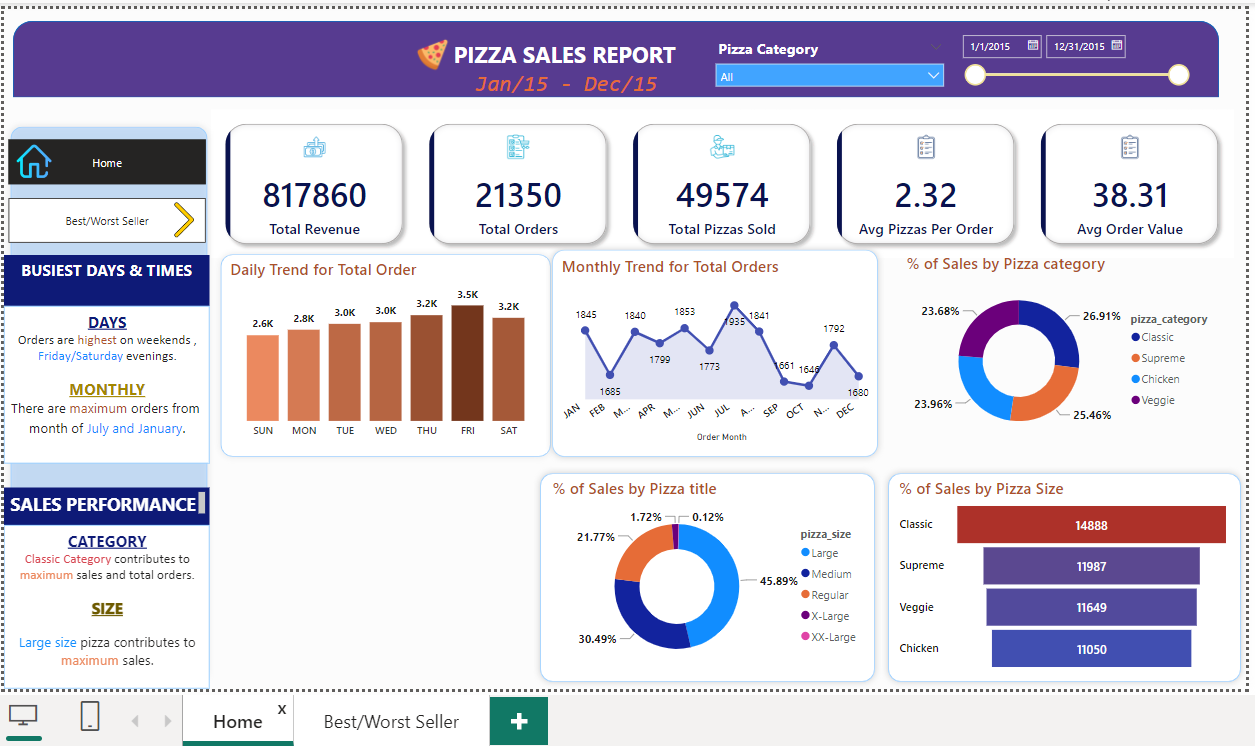

This screenshot's page, from the dashboard's own definition file:
{"tool":"powerbi","page":{"name":"Home","canvas":[1500,820],"ordinal":0},"visuals":[{"type":"cardVisual","fields":{"Data":["public pizzasale.Total Revenue","public pizzasale.Total Orders","public pizzasale.Total Pizzas Sold","public pizzasale.Avg Pizzas Per Order","public pizzasale.Avg Order Value"]},"box":[249.8,121.3,1234.5,179.2],"z":0},{"type":"shape","box":[10.9,14.5,1455.4,92.3],"z":1000},{"type":"textbox","box":[494.4,31.5,364.8,48.1],"z":2000},{"type":"textbox","box":[498.1,68.5,361.1,88.9],"z":3000},{"type":"image","box":[455.6,31.5,122.2,48.1],"z":4000},{"type":"shape","box":[253.4,287.8,414.5,260.7],"z":5000},{"type":"columnChart","title":"Daily Trend for  Total Order","fields":{"Category":["public pizzasale.Order Day"],"Y":["public pizzasale.Total Orders"]},"box":[267.9,300.5,385.6,226.3],"z":6000},{"type":"shape","box":[0,134,253.4,686],"z":7000},{"type":"textbox","box":[0,296.9,248,61.5],"z":8000},{"type":"shape","box":[653.5,282.4,409.1,266.1],"z":9000},{"type":"areaChart","title":"Monthly Trend for Total Orders","fields":{"Category":["public pizzasale.Order Month"],"Y":["public pizzasale.Total Orders"]},"box":[667.9,296.9,380.1,229.9],"z":10000},{"type":"donutChart","title":"% of Sales by Pizza category","fields":{"Category":["public pizzasale.pizza_category"],"Y":["public pizzasale.Total Revenue"]},"box":[1084.3,293.2,389.2,237.1],"z":11000},{"type":"shape","box":[639,552.1,420,267.9],"z":12000},{"type":"donutChart","title":"% of Sales by Pizza title","fields":{"Y":["public pizzasale.Total Revenue"],"Series":["public pizzasale.pizza_size"]},"box":[657.1,564.8,389.2,238.9],"z":13000},{"type":"shape","box":[1058.9,552.1,441.7,267.9],"z":14000},{"type":"funnel","title":"% of Sales by Pizza Size","fields":{"Category":["public pizzasale.pizza_category"],"Y":["public pizzasale.Total Pizzas Sold"]},"box":[1075.2,564.8,409.1,238.9],"z":15000},{"type":"textbox","box":[0,358.4,248,190.1],"z":16000},{"type":"textbox","box":[0,577.4,248,45.3],"z":17000},{"type":"textbox","box":[0,622.7,248,197.3],"z":18000},{"type":"slicer","fields":{"Values":["public pizzasale.pizza_category"]},"box":[849,30.8,295.1,68.8],"z":19000},{"type":"slicer","fields":{"Values":["public pizzasale.order_date"]},"box":[1144,21.7,295.1,85.1],"z":20000},{"type":"pageNavigator","box":[5.4,157.5,238.9,54.3],"z":21000},{"type":"pageNavigator","box":[5.4,228.1,238.9,54.3],"z":22000},{"type":"image","box":[0,157.5,72.4,52.5],"z":22001},{"type":"image","box":[186.4,228.1,61.5,52.5],"z":22002}]}

Visuals, with their boxes on the page's 1500x820 design canvas (x1, y1, x2, y2). These are canvas units, not pixel positions in the 1255x746 screenshot, which may show the page scaled, cropped or inside an application window:
cardVisual - public pizzasale.Total Revenue x public pizzasale.Total Orders: 250:121:1484:300
shape: 11:14:1466:107
textbox: 494:32:859:80
textbox: 498:68:859:157
image: 456:32:578:80
shape: 253:288:668:548
"Daily Trend for  Total Order" columnChart: 268:300:654:527
shape: 0:134:253:820
textbox: 0:297:248:358
shape: 654:282:1063:548
"Monthly Trend for Total Orders" areaChart: 668:297:1048:527
"% of Sales by Pizza category" donutChart: 1084:293:1474:530
shape: 639:552:1059:820
"% of Sales by Pizza title" donutChart: 657:565:1046:804
shape: 1059:552:1501:820
"% of Sales by Pizza Size" funnel: 1075:565:1484:804
textbox: 0:358:248:548
textbox: 0:577:248:623
textbox: 0:623:248:820
slicer - public pizzasale.pizza_category: 849:31:1144:100
slicer - public pizzasale.order_date: 1144:22:1439:107
pageNavigator: 5:158:244:212
pageNavigator: 5:228:244:282
image: 0:158:72:210
image: 186:228:248:281
